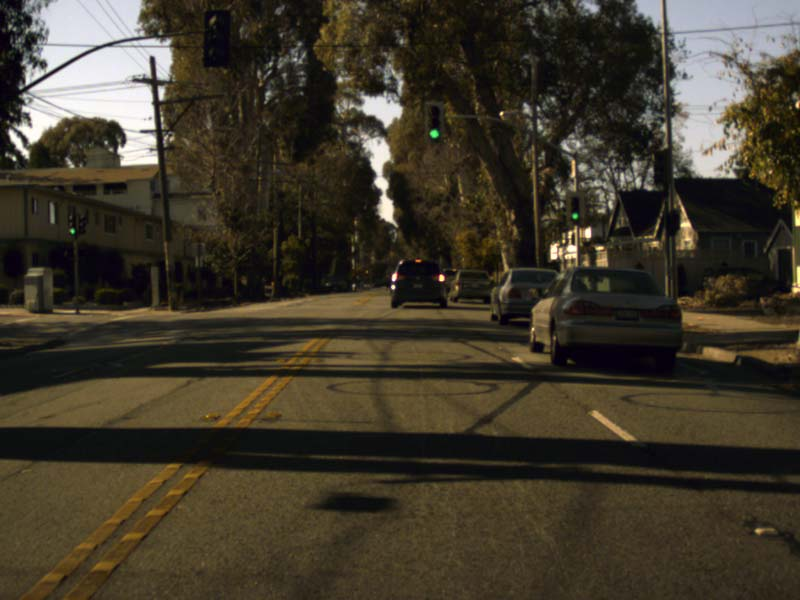Green: (423, 103, 443, 146), (567, 197, 582, 223)
